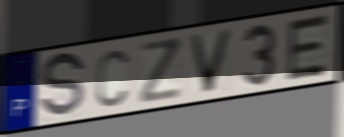3: (240, 21, 279, 89)
C: (94, 47, 131, 110)
E: (284, 11, 333, 84)
S: (38, 49, 87, 121)
V: (186, 27, 236, 95)
Z: (139, 34, 183, 106)
